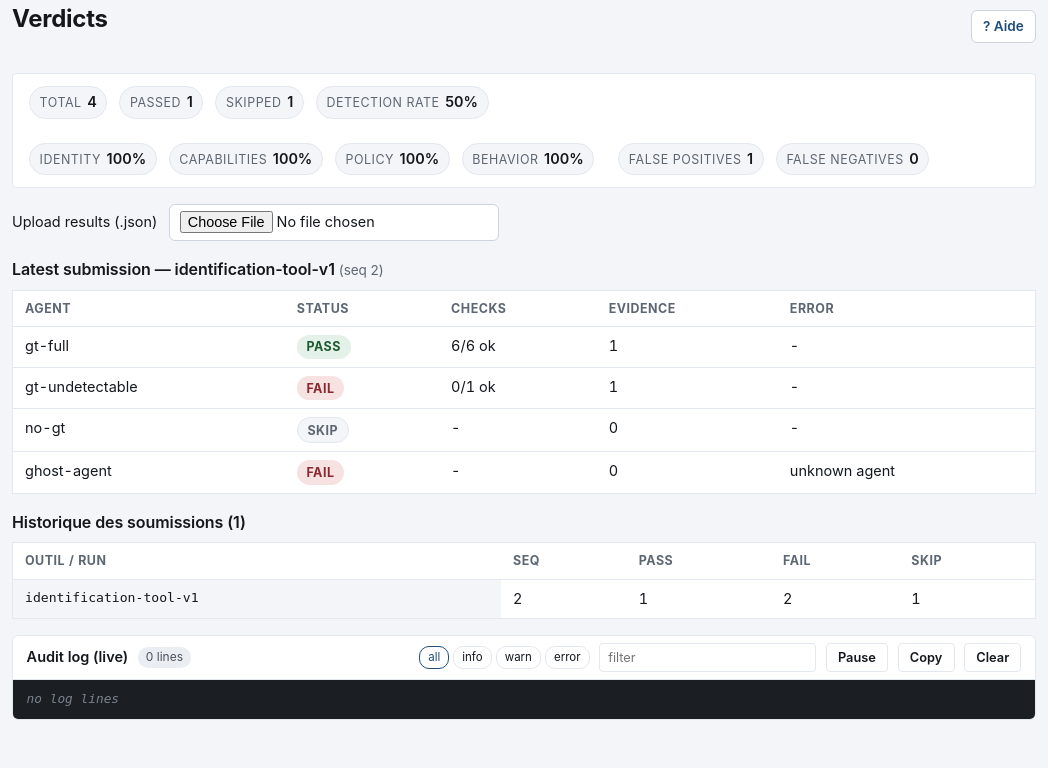
Test: VerdictsPage › expands a FAIL row to failed checks, expected vs observed and evidence links
The image size is (1048, 768).
Click the text "gt-undetectable". click: (524,388)
box: [12,368,1036,409]
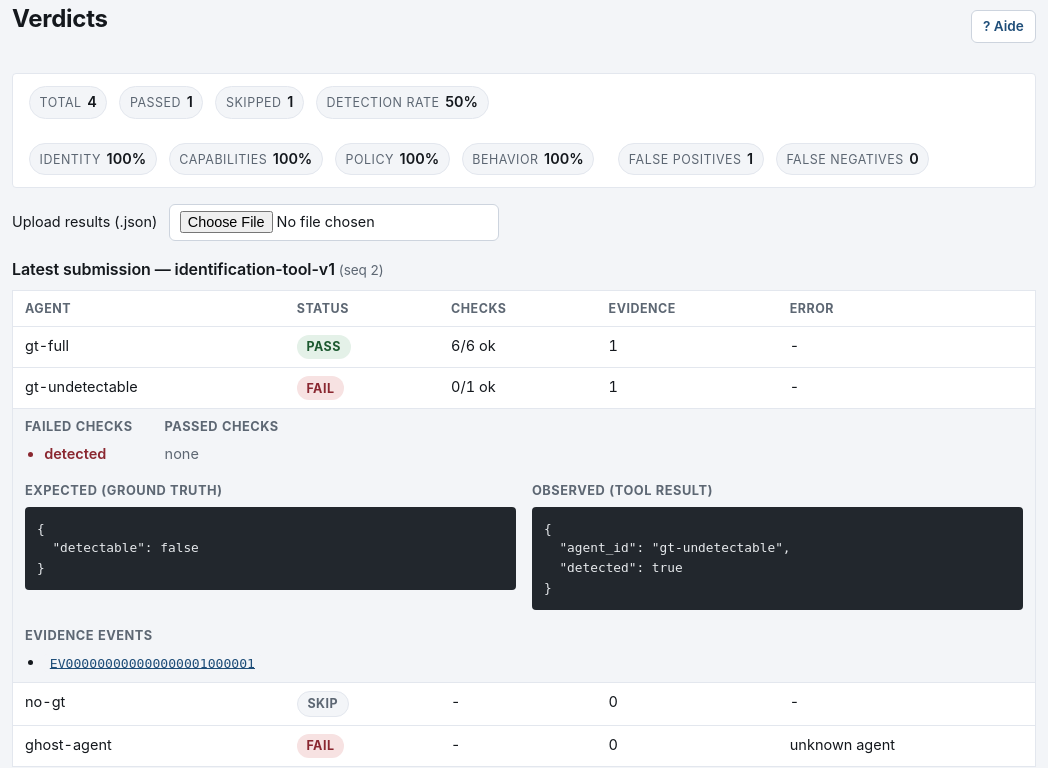
Result: the list item "detected" is shown at [44,445,106,462]
Result: the text with test id "expected-json" shows "\"detectable\": false" at [37,521,199,575]
Result: the text with test id "observed-json" shows "\"detected\": true" at [544,521,790,595]
